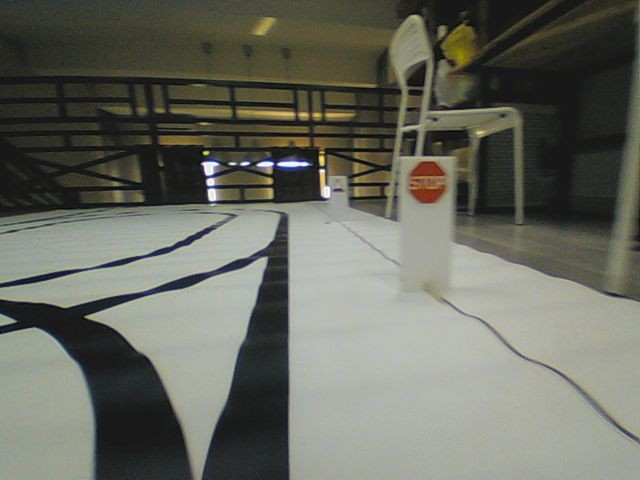Stop: (407, 160, 447, 205)
